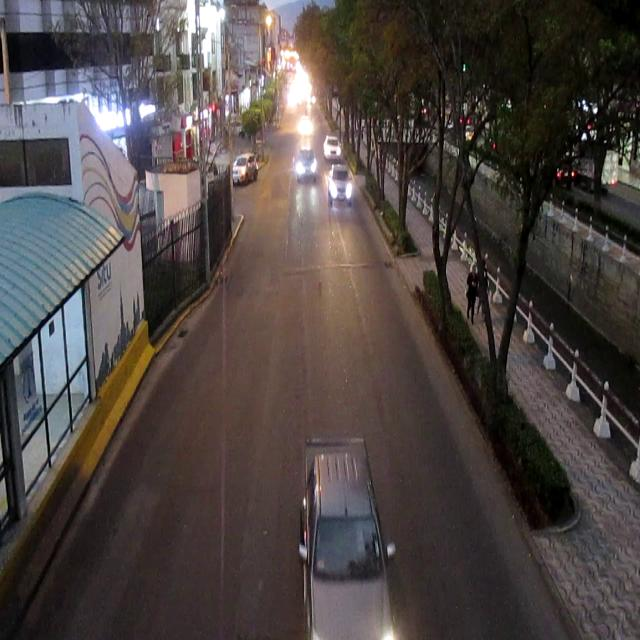CMT: (299, 428, 389, 640)
SUV: (233, 156, 257, 185), (324, 136, 339, 160)
